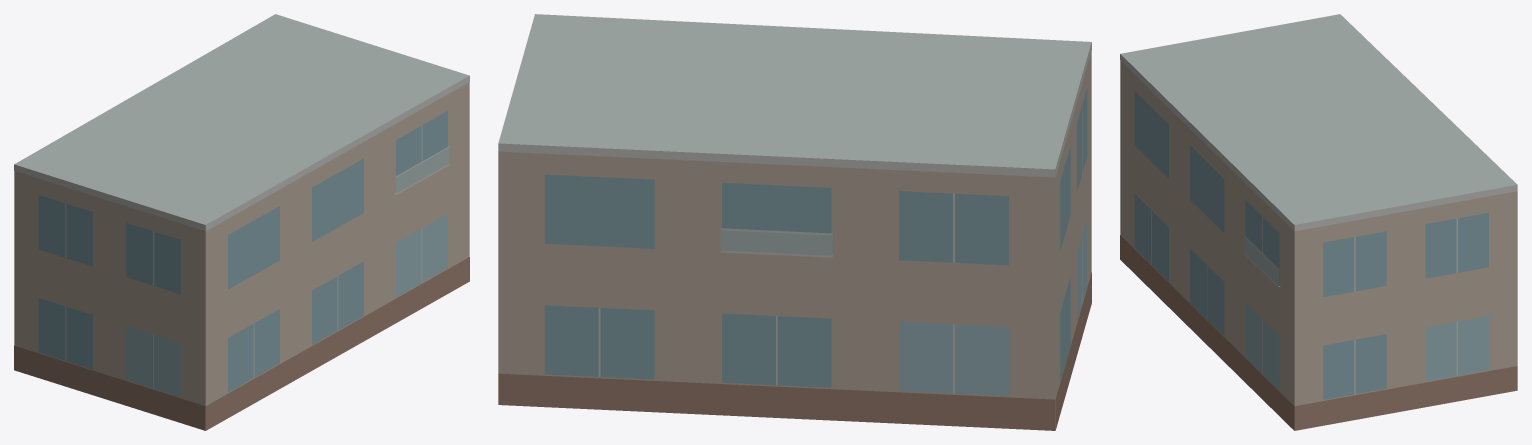
File: survey-upis-32866389.glb
The picture shows the model from 3 angles, left to right: view 1: azimuth 30°, elevation 25°; view 2: azimuth 150°, elevation 25°; view 3: azimuth 270°, elevation 25°; orthographic projection. The views are drawn at different scales.
Visible parts, largest first — view 1: survey-upis-32866389.tmp; view 2: survey-upis-32866389.tmp; view 3: survey-upis-32866389.tmp.
Part boxes in pixels (box(x1,y1,x2,y2)): survey-upis-32866389.tmp: box(14, 14, 469, 430); survey-upis-32866389.tmp: box(498, 14, 1091, 430); survey-upis-32866389.tmp: box(1120, 14, 1517, 430).
Bounding box in the file's own units: 17.39 × 7.9 × 13.84.
